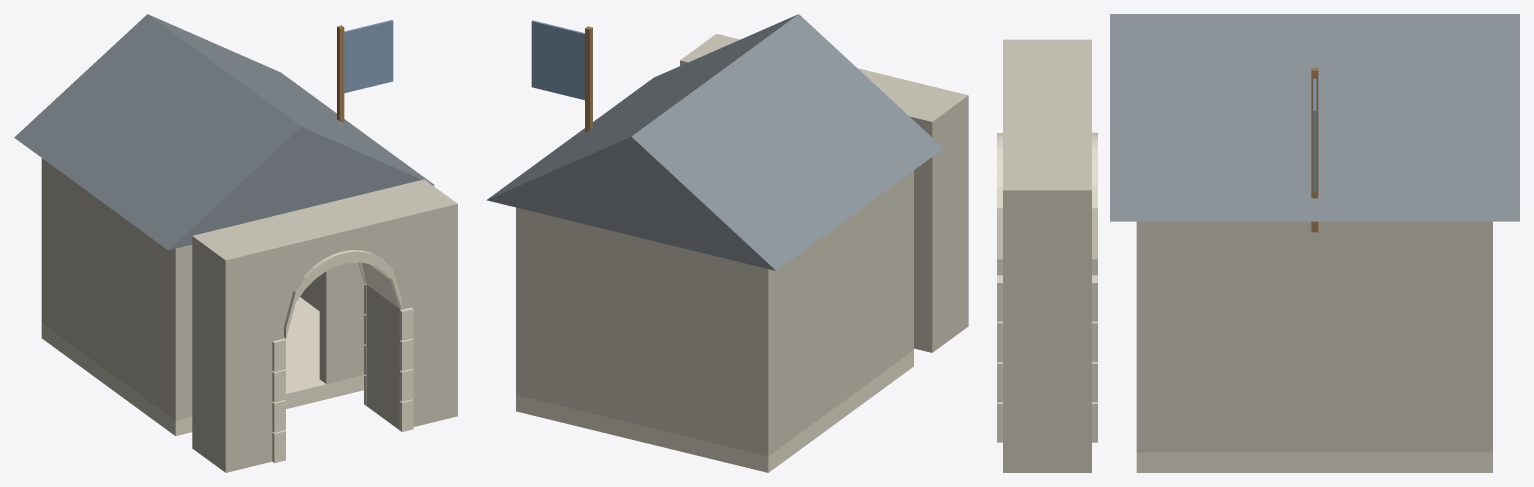
Rendered from guardhouse.glb.
The picture shows the model from 3 angles, left to right: view 1: azimuth 30°, elevation 25°; view 2: azimuth 150°, elevation 25°; view 3: azimuth 270°, elevation 25°; orthographic projection. The views are drawn at different scales.
Visible parts, largest first — view 1: guardhouse; view 2: guardhouse; view 3: guardhouse.
Part boxes in pixels (x1,y1,x2,y2): guardhouse: [14, 14, 457, 472]; guardhouse: [486, 14, 968, 472]; guardhouse: [997, 14, 1519, 472].
Size of the model in its own units: 5.2 by 5 by 5.87.
